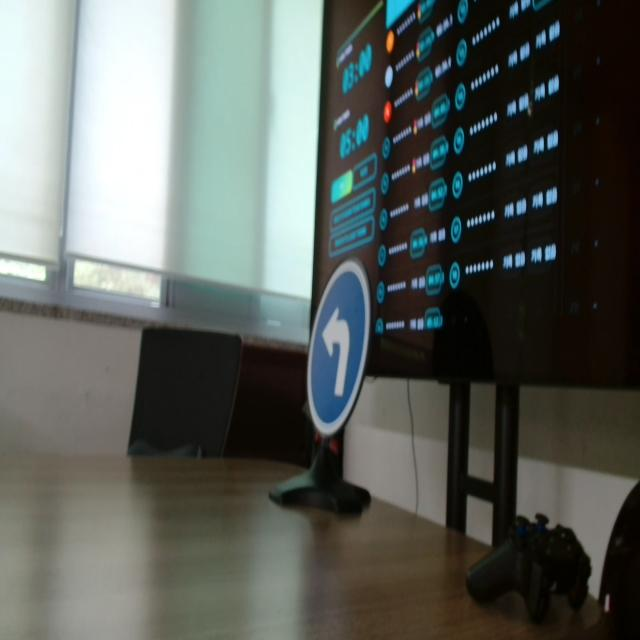left_direction: (302, 248, 369, 436)
